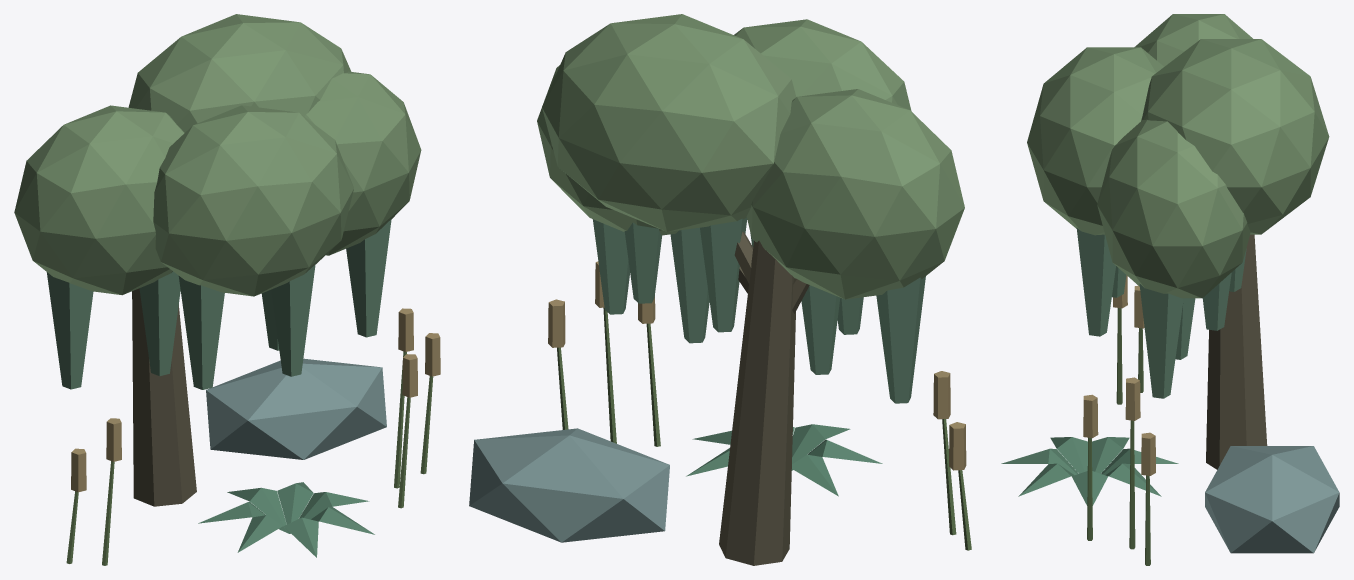
File: xingyin-environment-v2__wetland_willow_island.glb
The picture shows the model from 3 angles, left to right: view 1: azimuth 30°, elevation 25°; view 2: azimuth 150°, elevation 25°; view 3: azimuth 270°, elevation 25°; orthographic projection. The views are drawn at different scales.
Parts seen in each view (by area): view 1: wetland_willow_island; view 2: wetland_willow_island; view 3: wetland_willow_island.
Boxes of the visible parts, x1=… form: wetland_willow_island: x1=14, y1=14, x2=440, y2=565; wetland_willow_island: x1=469, y1=14, x2=971, y2=565; wetland_willow_island: x1=1001, y1=14, x2=1339, y2=565.
Bounding box in the file's own units: 3.18 × 3.59 × 2.4.
